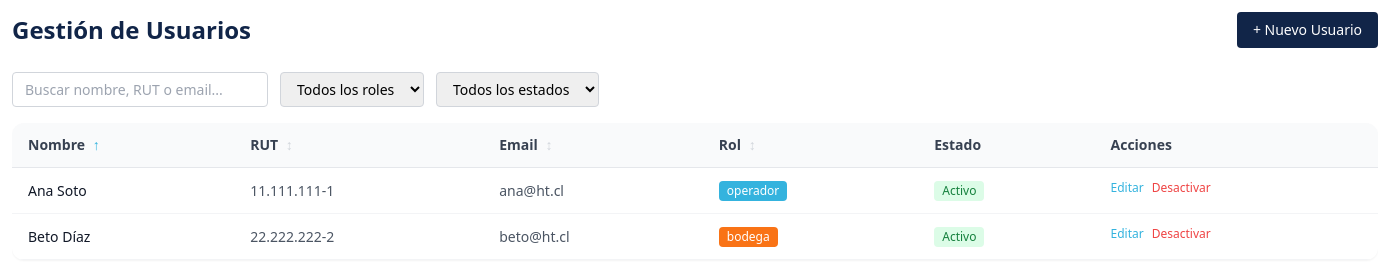
Test case: Usuarios › lista usuarios y filtra por texto
Expected: the text "Ana Soto" is shown, [12,168,234,214]
Expected: the text "Beto Díaz" is shown, [12,214,234,260]
Type "Ana" into the field with placeholder "Buscar nombre, RUT o email..." at [140, 90], box [12,72,268,107]
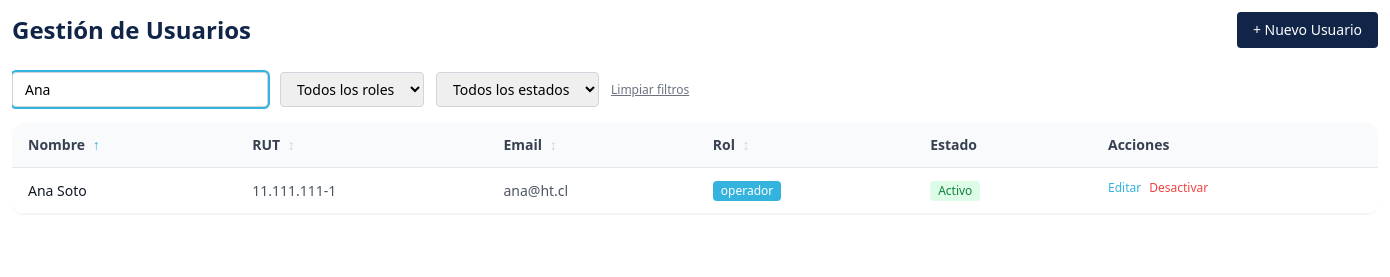
Expected: the text "Ana Soto" is shown, [12,168,236,214]
Result: the text "Beto Díaz" is gone
